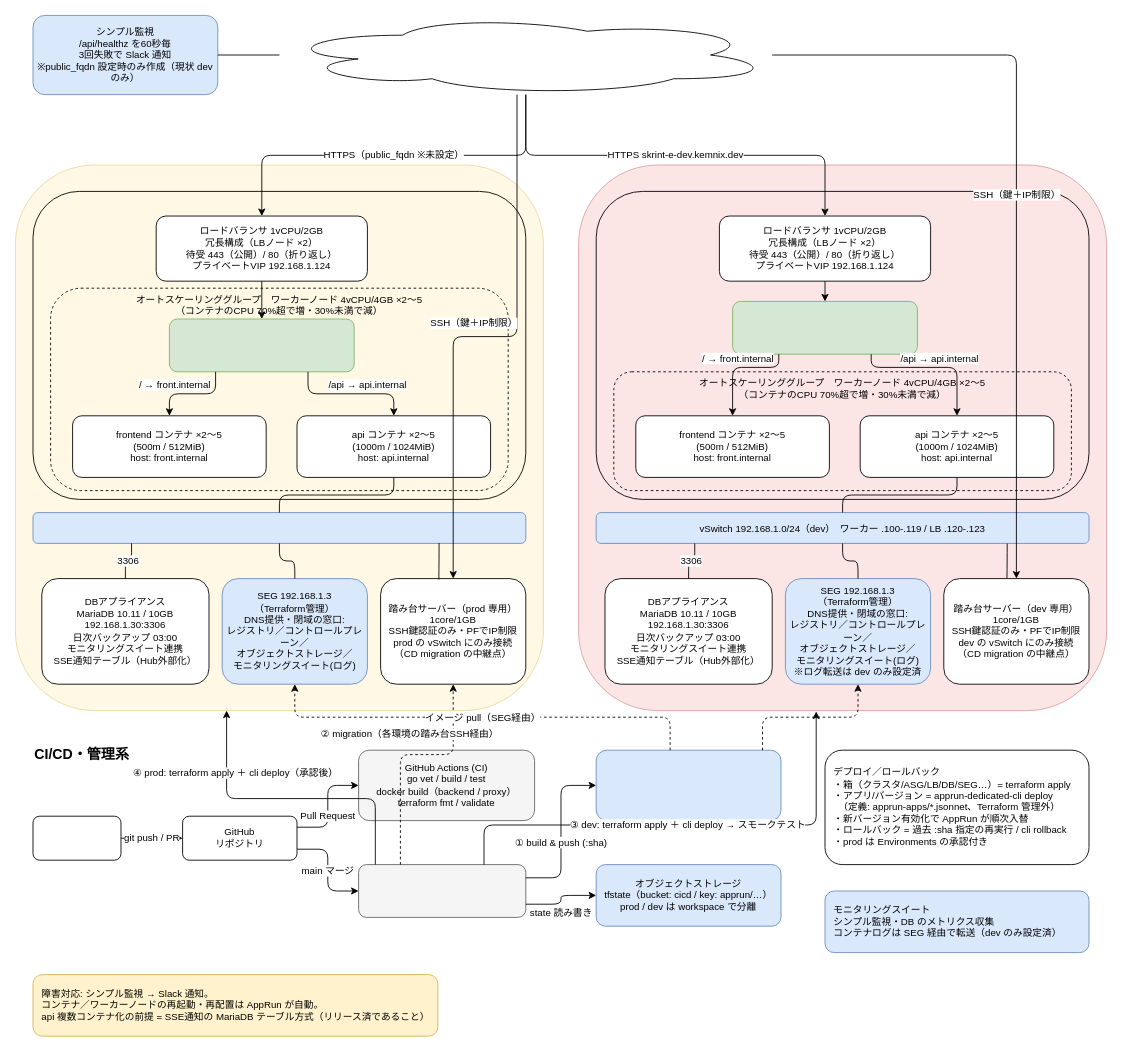
This 1122x1052 diagram has some shape labels left out. Each missing label, with the box of its shape:
AppRun専有型（dev） TLS: Let's Encrypt 自動発行: (595, 191, 1089, 499)
AppRun専有型（prod） TLS: Let's Encrypt（※public_fqdn / メール未設定のため現状なし）: (32, 191, 526, 499)
dev（workspace: dev）: (578, 164, 1107, 711)
GitHub Actions (CD): (358, 864, 526, 917)
prod（workspace: prod）: (15, 164, 543, 711)
proxy (nginx) コンテナ ×2〜5 (250m / 256MiB): (169, 318, 354, 372)
proxy (nginx) コンテナ ×2〜5 (250m / 256MiB) /api を LB:80 へ折り返し: (732, 301, 917, 354)
The Internet: (279, 15, 772, 95)
vSwitch 192.168.1.0/24（prod） ワーカー .100-.119 / LB .120-.123: (32, 512, 526, 543)
コンテナレジストリ intern-team-e.sakuracr.jp (backend / proxy ※frontend は CI/CD 未対応): (595, 749, 781, 821)
開発者: (32, 815, 121, 860)
